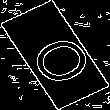O_NE: (15, 24, 95, 86)
